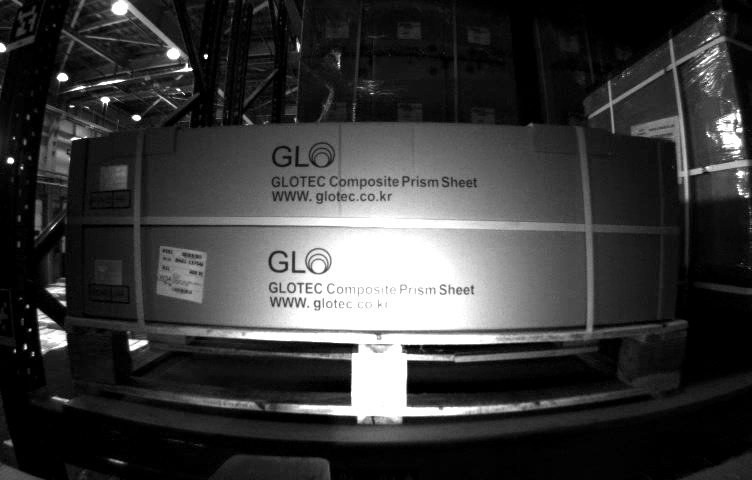True Barcode: (156, 245, 205, 303)
